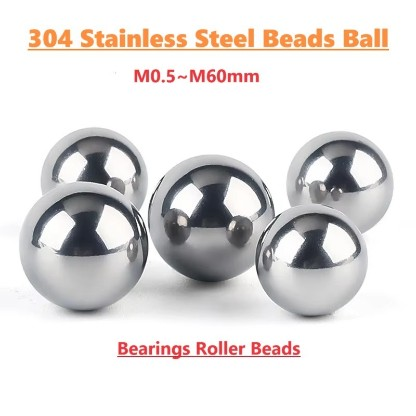ironball: (18, 180, 148, 311), (147, 153, 275, 282), (254, 202, 368, 316), (285, 130, 393, 233), (40, 126, 148, 211)
